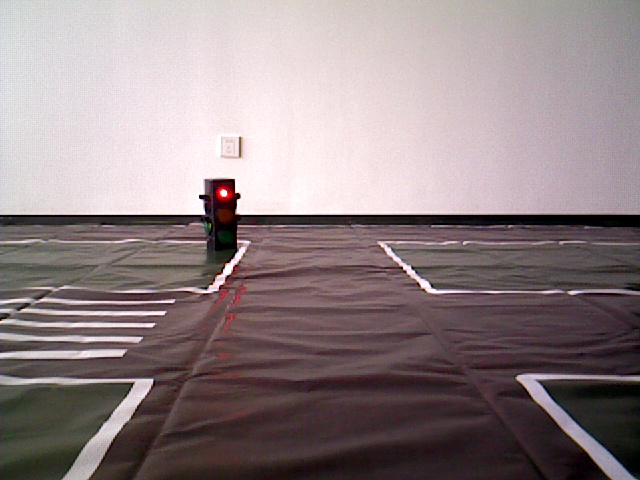red: (203, 179, 232, 252)
